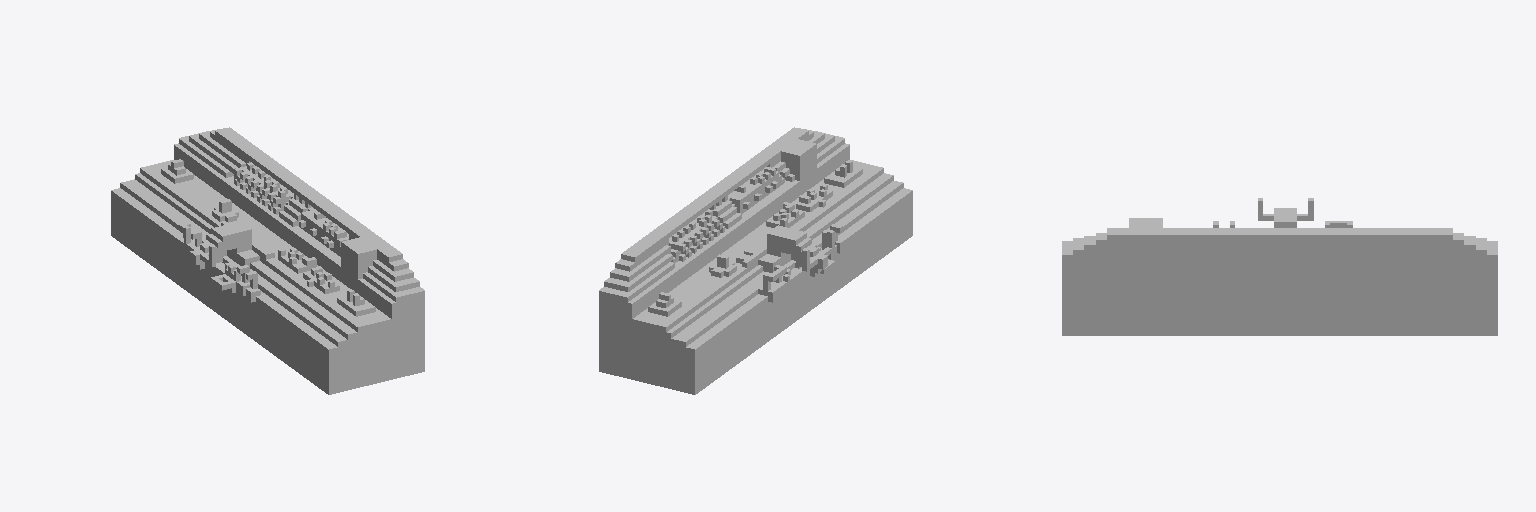
The model's file is escena nave interior-4-navedelantera.obj.
The picture shows the model from 3 angles: view 1: azimuth 30°, elevation 25°; view 2: azimuth 150°, elevation 25°; view 3: azimuth 270°, elevation 25°; orthographic projection.
Parts seen in each view (by area): view 1: navedelantera; view 2: navedelantera; view 3: navedelantera.
Part boxes in pixels (bbox=[...]): navedelantera: bbox=[111, 127, 424, 394]; navedelantera: bbox=[599, 127, 912, 394]; navedelantera: bbox=[1062, 198, 1497, 335].
Size of the model in its own units: 2.5 by 2 by 7.8.